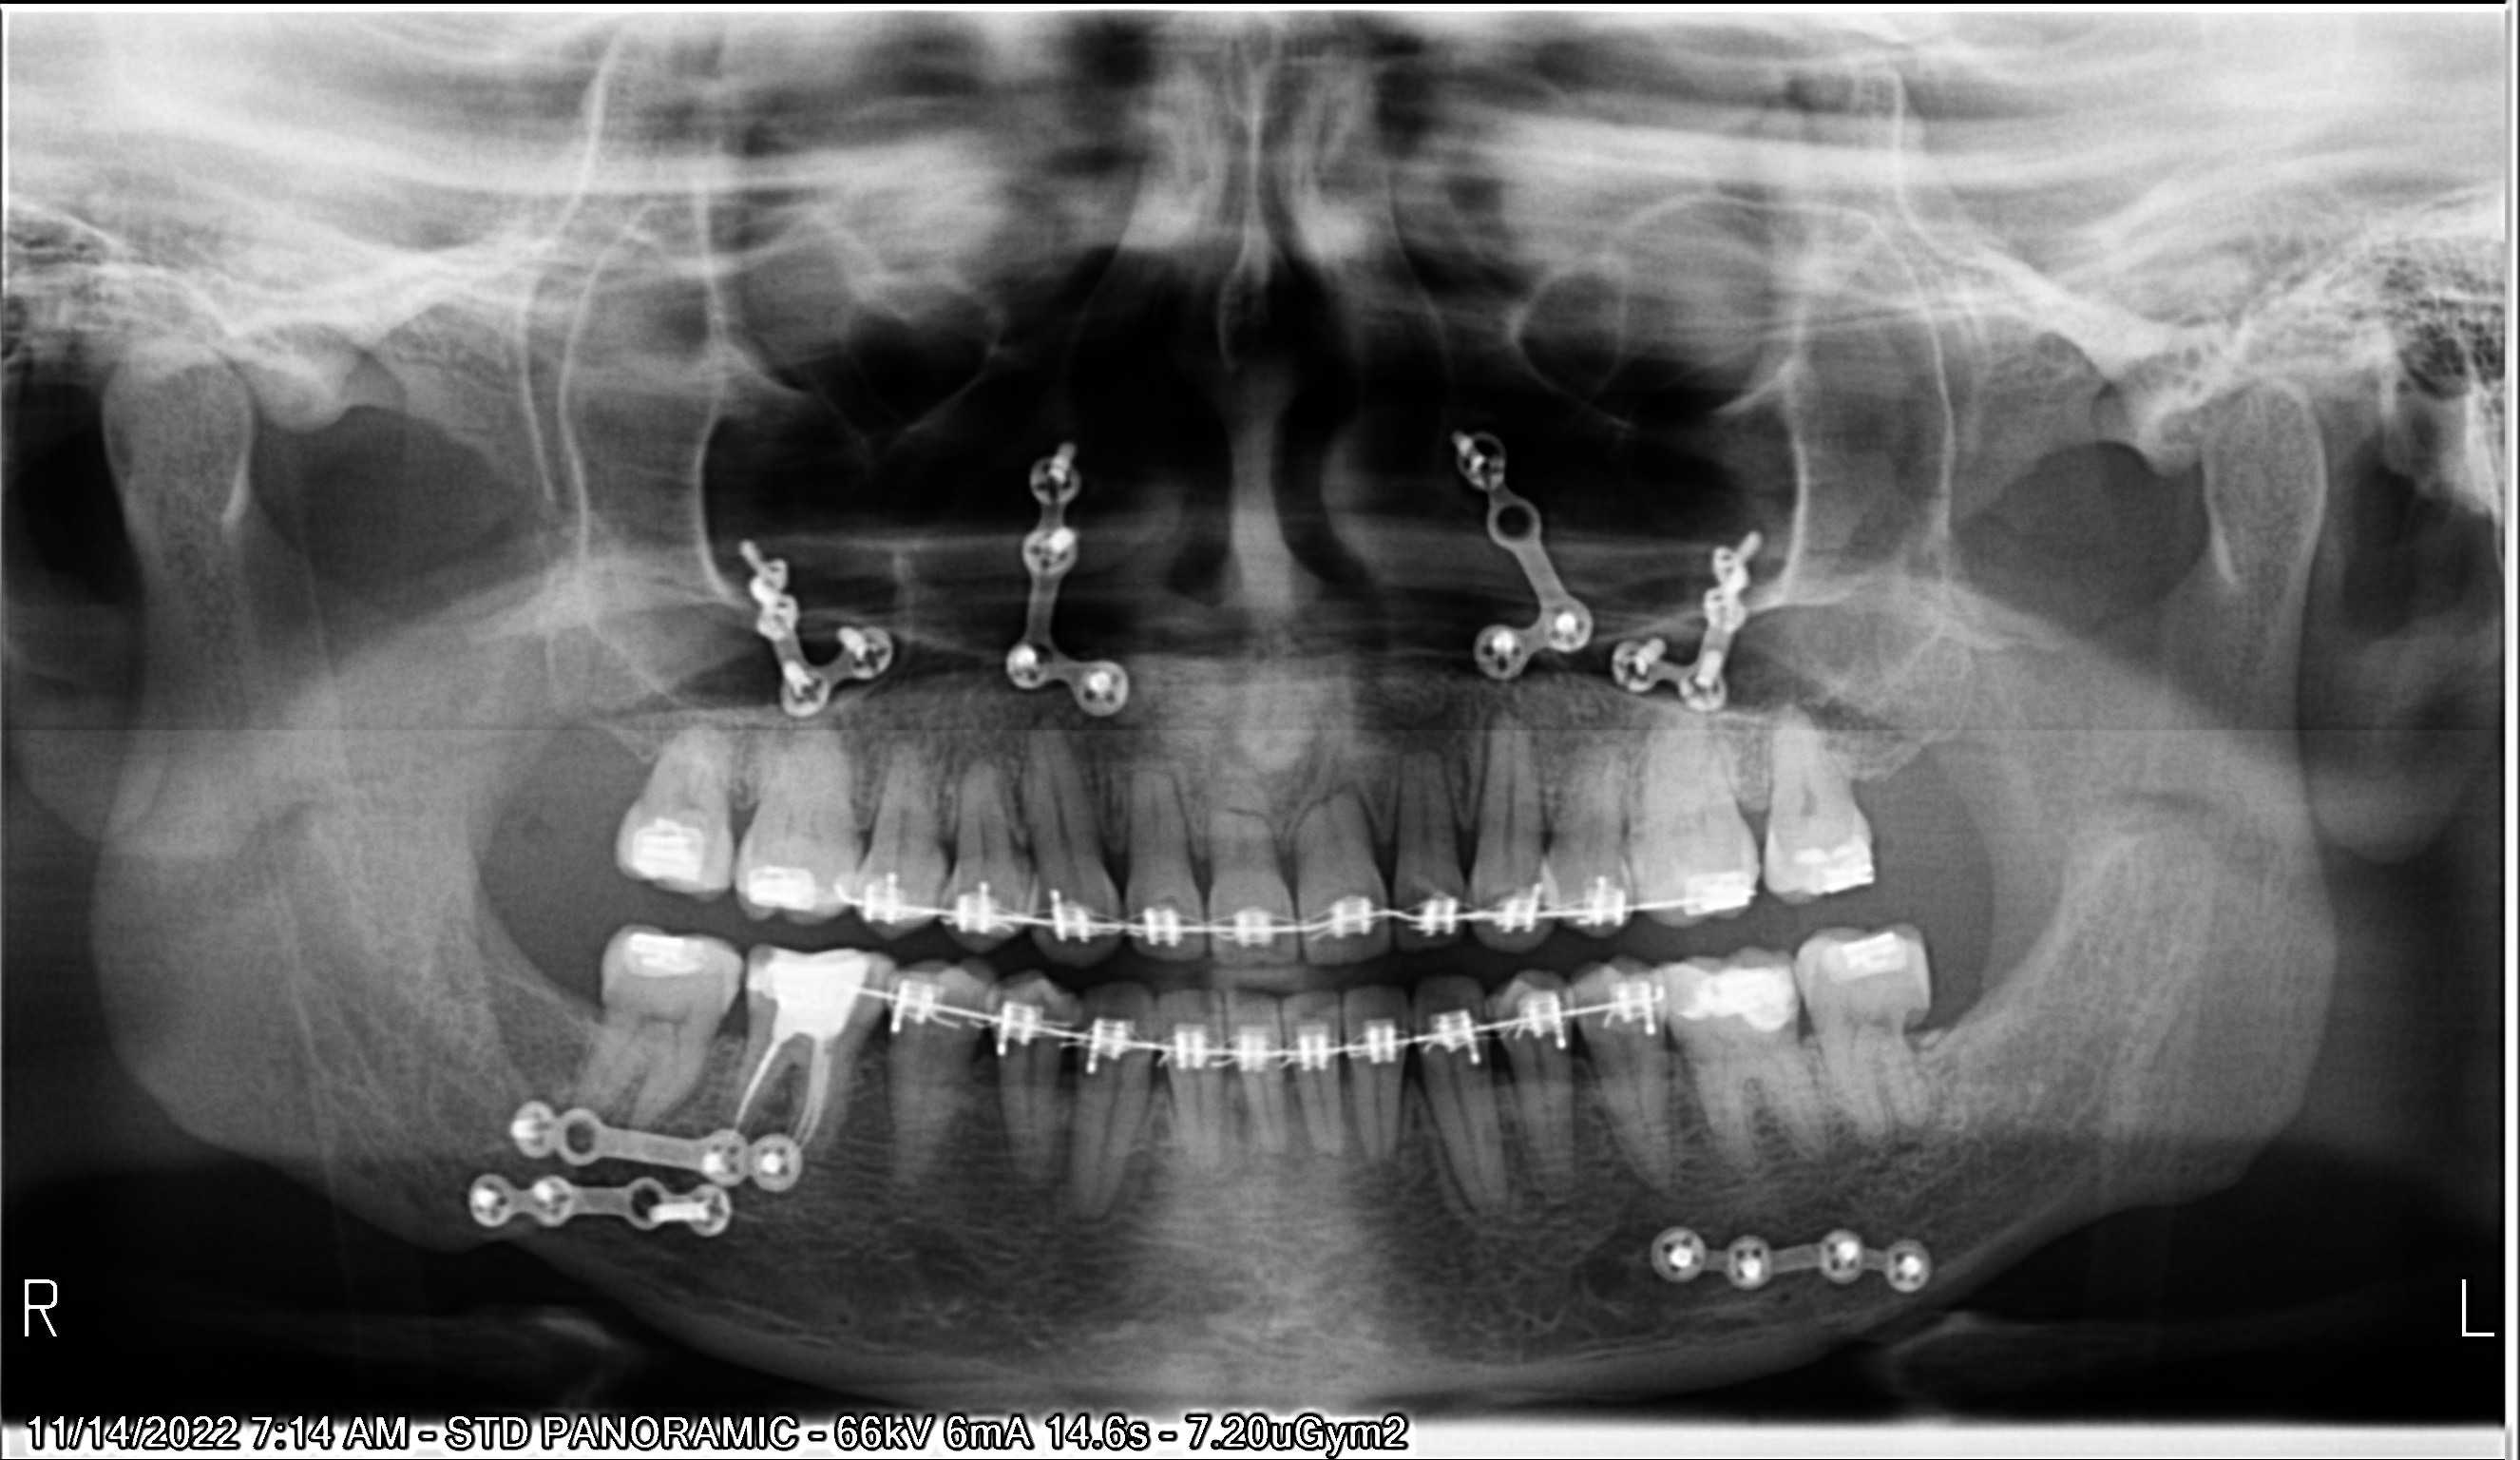APS: (1261, 746, 1388, 839), (1188, 770, 1289, 857), (1110, 720, 1200, 801), (1382, 697, 1468, 773)
CAR: (1876, 984, 1949, 1055)
END: (703, 1041, 846, 1159)
ORD: (594, 775, 1924, 966), (575, 925, 1954, 1090)
SRD: (964, 421, 1178, 733), (471, 1058, 818, 1239), (1610, 1196, 1978, 1342), (1410, 412, 1593, 702), (703, 501, 914, 730), (1579, 508, 1789, 716), (425, 1144, 747, 1267)
